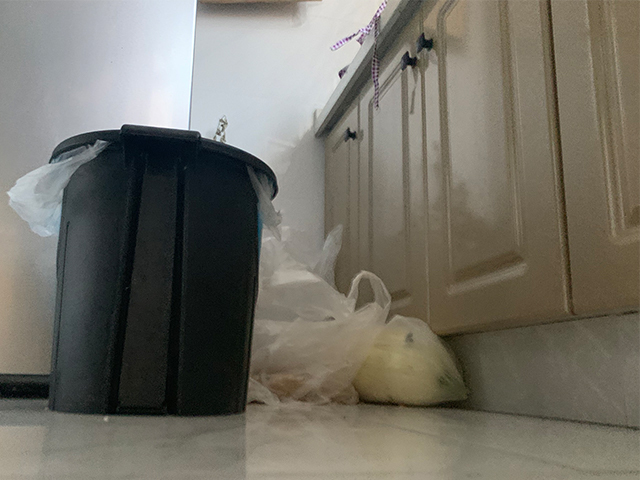cabinet: (315, 1, 640, 428)
trashcan: (47, 123, 279, 417)
